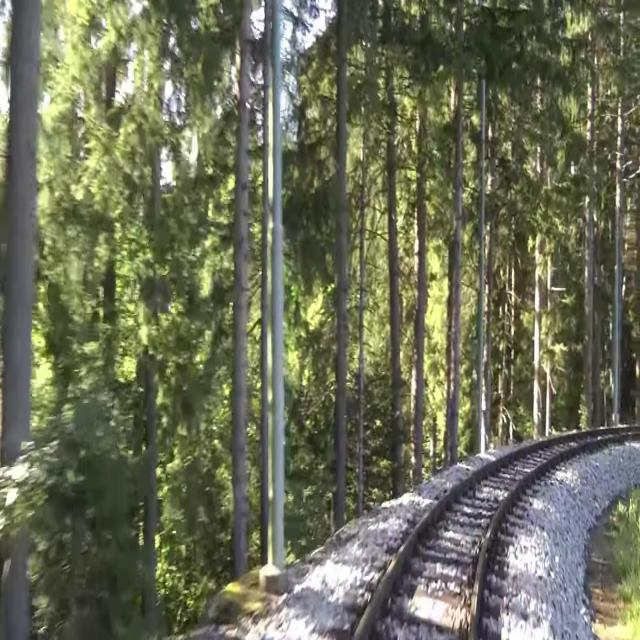rail-track: (359, 439, 573, 639)
